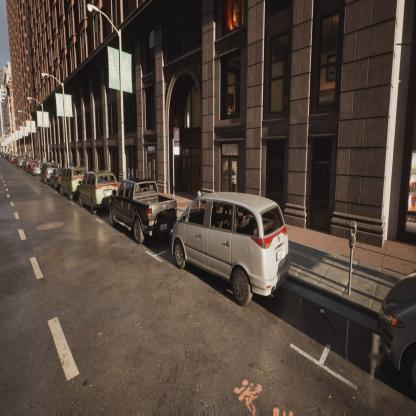License-Plate: (275, 247, 284, 265), (159, 222, 168, 234), (105, 190, 112, 200)
